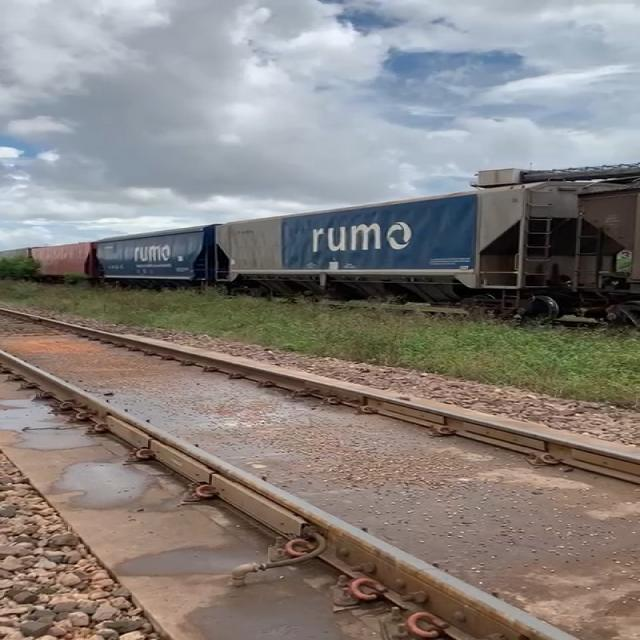hopper: (211, 172, 579, 326), (569, 173, 640, 321), (94, 222, 215, 288)
